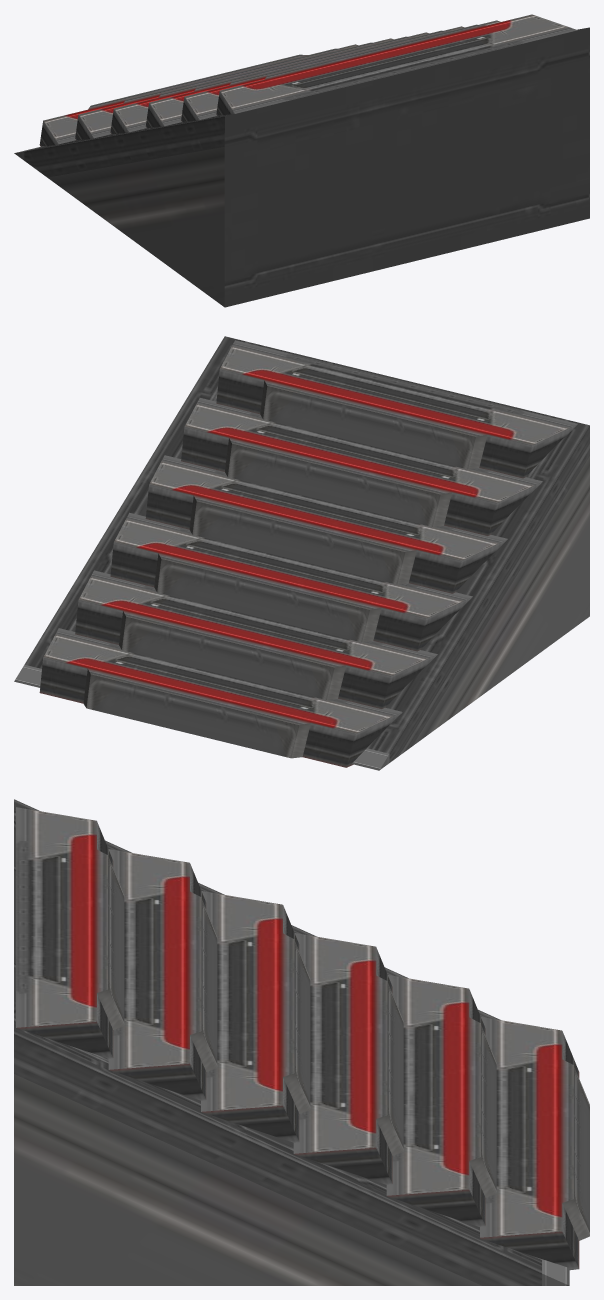
File: sf_stairs_2.glb
The picture shows the model from 3 angles, top to bottom: view 1: azimuth 30°, elevation 25°; view 2: azimuth 150°, elevation 25°; view 3: azimuth 270°, elevation 25°; orthographic projection. The views are drawn at different scales.
Visible parts, largest first — view 1: Platform_Stairs_2; view 2: Platform_Stairs_2; view 3: Platform_Stairs_2.
Part boxes in pixels (x1,y1,x2,y2): Platform_Stairs_2: (14, 14, 589, 307); Platform_Stairs_2: (14, 336, 589, 770); Platform_Stairs_2: (14, 799, 589, 1285).
Bounding box in the file's own units: 2 × 1.01 × 2.07.
2 materials, 2 textured.
